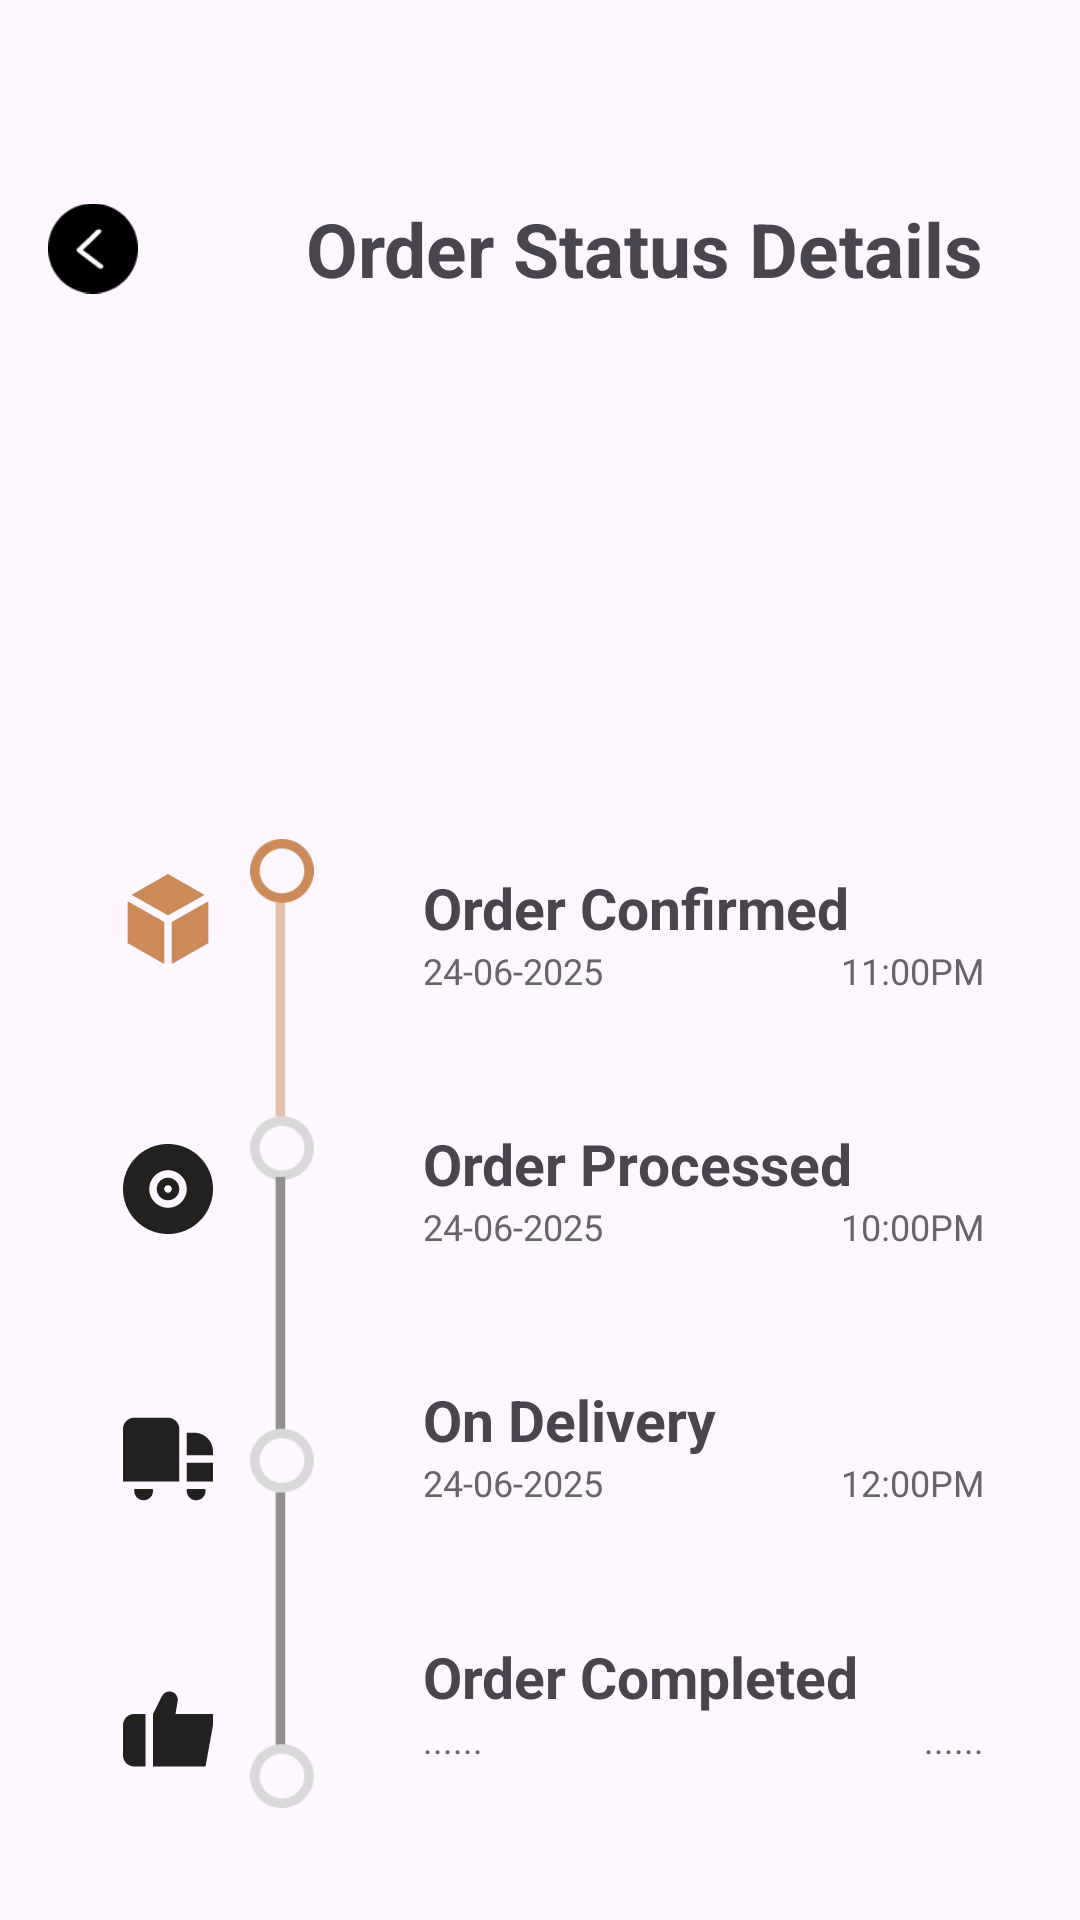

Locate icon controls on the screen. Image size 1080x1920, boxes as (x1, y1, x2, y2).
back: (48, 204, 138, 294)
